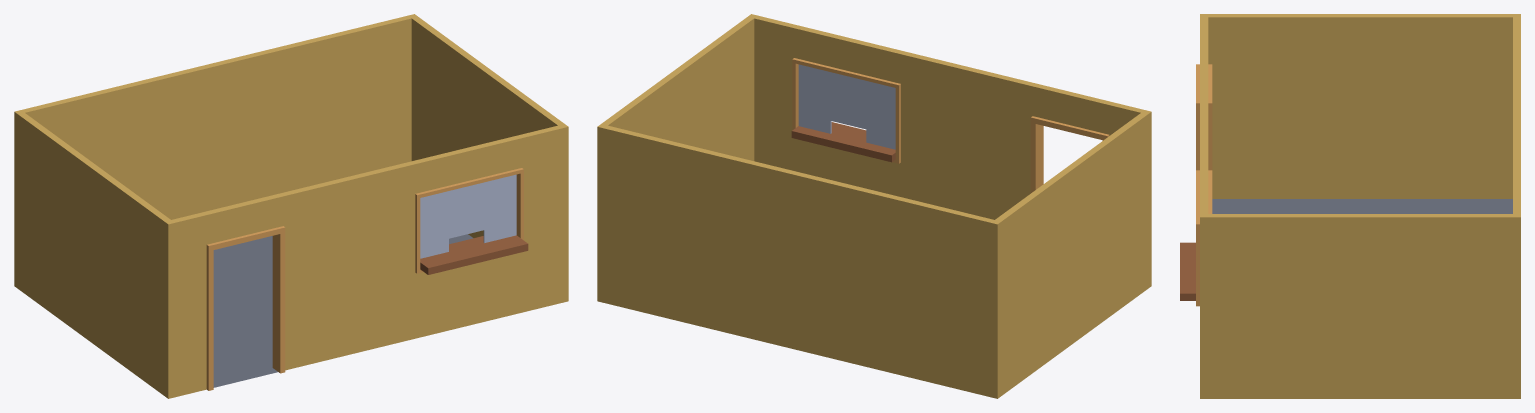
Rendered from Building.fbx.
3 views of the same model, side by side, from view 1: azimuth 30°, elevation 25°; view 2: azimuth 150°, elevation 25°; view 3: azimuth 270°, elevation 25° (orthographic). The views are drawn at different scales.
Parts seen in each view (by area): view 1: Wall_1, Wall_3, Wall_2, Wall_4, Floor; view 2: Wall_3, Wall_1, Wall_2, Wall_4; view 3: Wall_4, Wall_2, Floor, Wall_1, Wall_3.
Part boxes in pixels (x1,y1,x2,y2): Wall_1: [168, 125, 568, 398]; Wall_3: [15, 14, 414, 219]; Wall_2: [14, 111, 170, 398]; Wall_4: [411, 14, 567, 237]; Floor: [213, 234, 473, 387]; Wall_3: [597, 125, 997, 398]; Wall_1: [751, 14, 1150, 219]; Wall_2: [995, 111, 1151, 398]; Wall_4: [598, 14, 754, 160]; Wall_4: [1200, 214, 1520, 398]; Wall_2: [1201, 14, 1519, 198]; Floor: [1212, 199, 1512, 213]; Wall_1: [1180, 14, 1212, 306]; Wall_3: [1513, 14, 1520, 216].
Bounding box in the file's own units: 1200 × 500 × 850.
